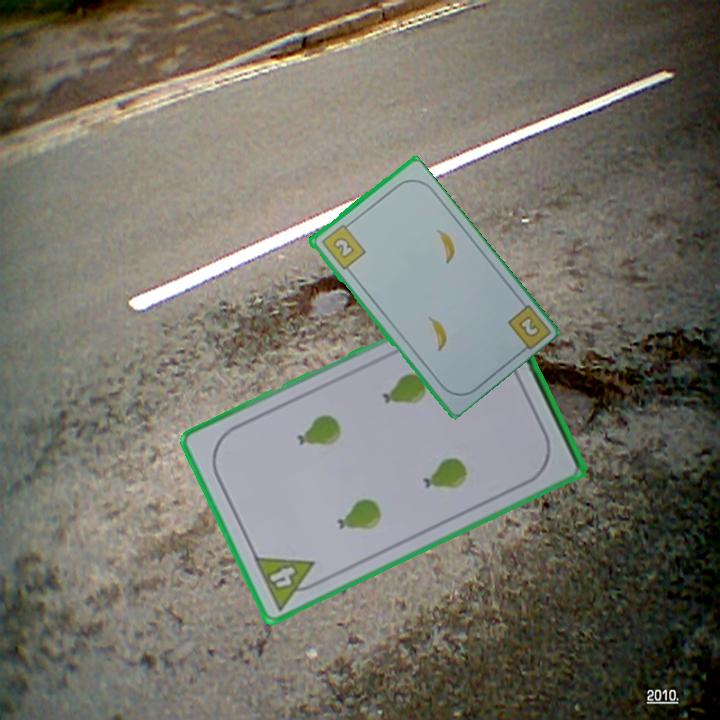2b: (317, 219, 368, 272), (514, 312, 543, 340)
4p: (250, 553, 326, 613)
